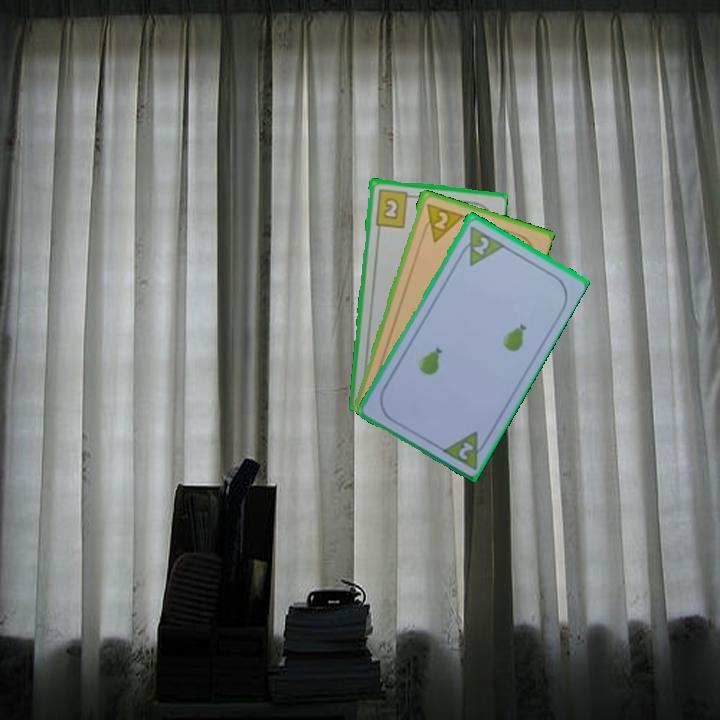2b: (371, 185, 416, 230)
2p: (419, 199, 465, 245), (454, 437, 477, 462), (470, 232, 492, 257)
